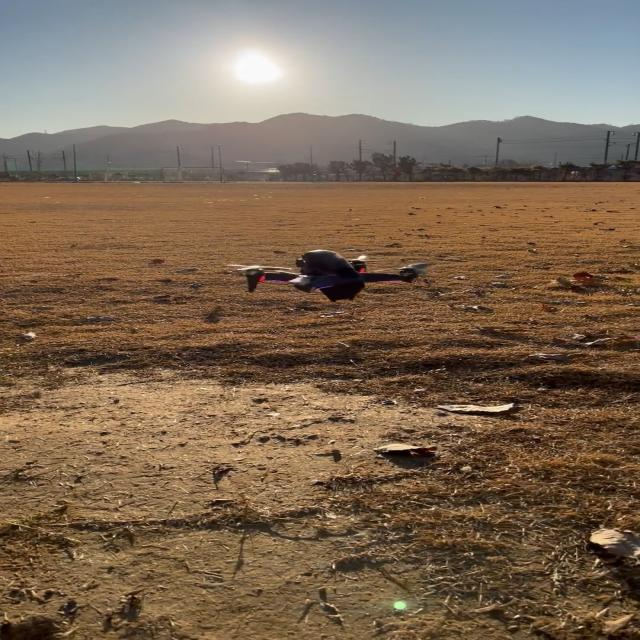Drone: (249, 250, 421, 302)
